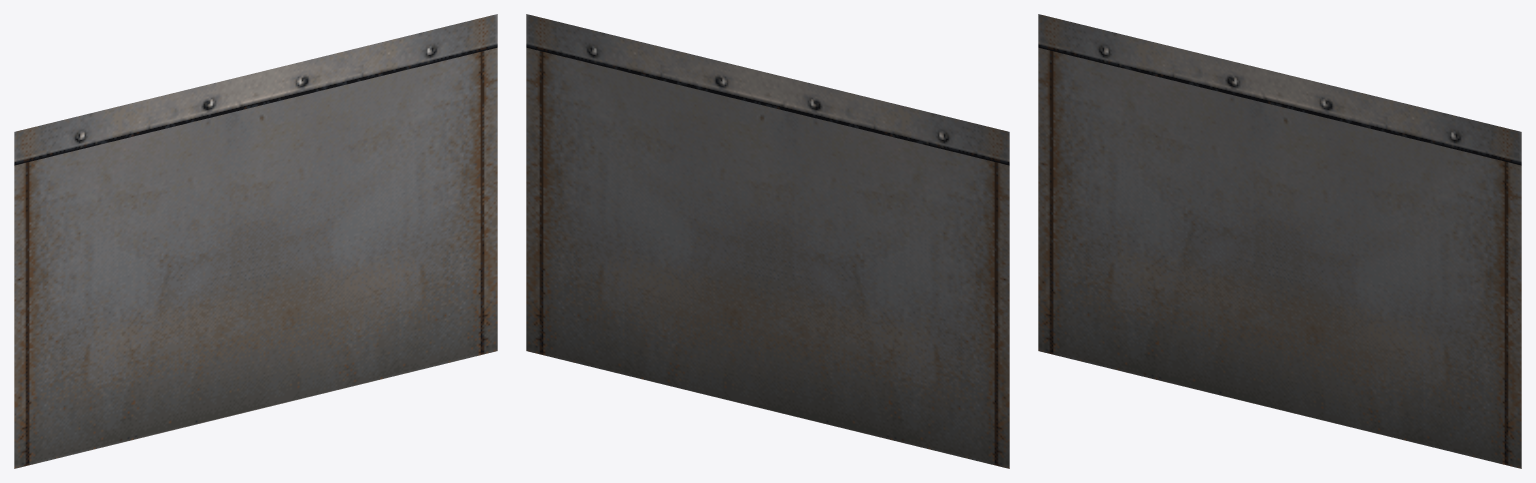
File: SM_BLD_WALLROOM_01.fbx
The picture shows the model from 3 angles, left to right: view 1: azimuth 30°, elevation 25°; view 2: azimuth 150°, elevation 25°; view 3: azimuth 330°, elevation 25°; orthographic projection.
Visible parts, largest first — view 1: SM_BLD_WALLROOM_01; view 2: SM_BLD_WALLROOM_01; view 3: SM_BLD_WALLROOM_01.
Part boxes in pixels (bbox=[...]): SM_BLD_WALLROOM_01: bbox=[14, 14, 497, 468]; SM_BLD_WALLROOM_01: bbox=[526, 14, 1009, 468]; SM_BLD_WALLROOM_01: bbox=[1038, 14, 1521, 468].
Size of the model in its own units: 6 by 4 by 0.
